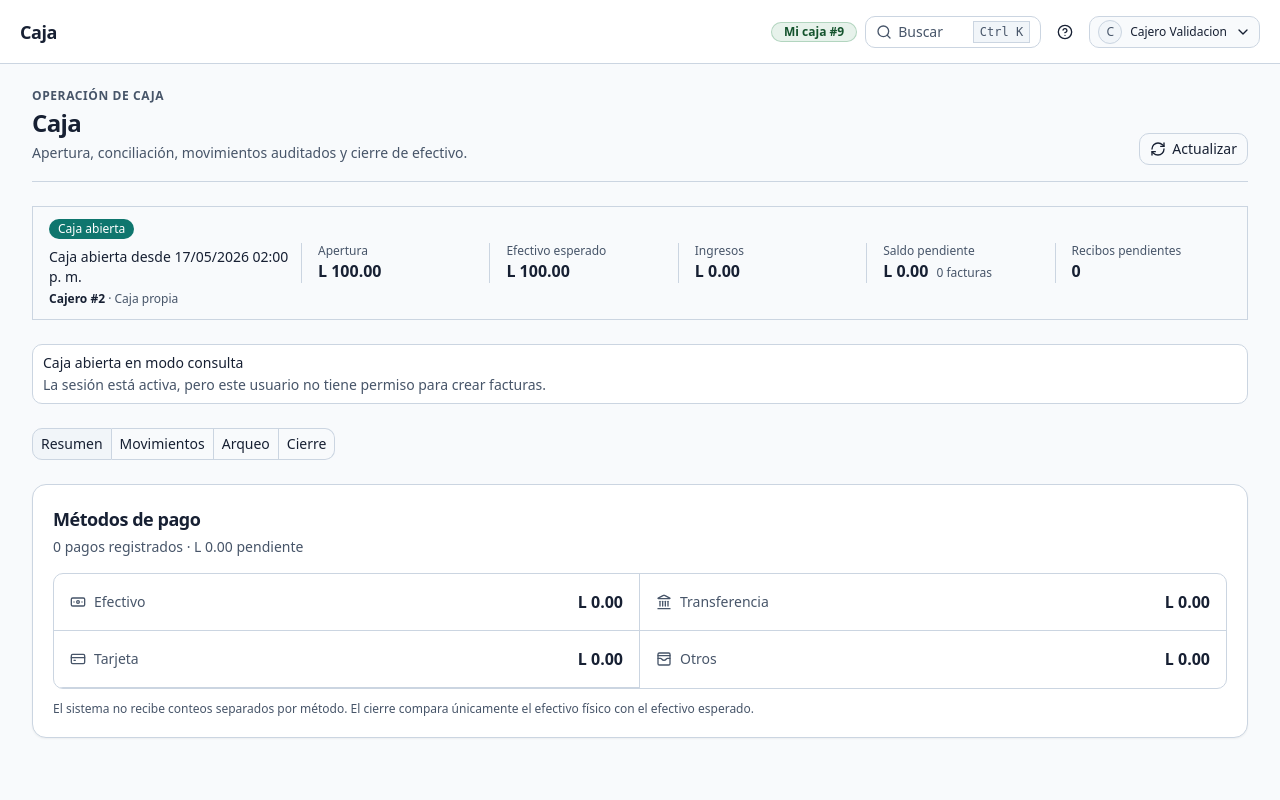
Scenario: CashBoxView › keeps close-session difference hidden until counted amount is entered
Click the radio button labelled "Cierre".
click(307, 444)  # box [279, 428, 335, 460]
(page scrolled)
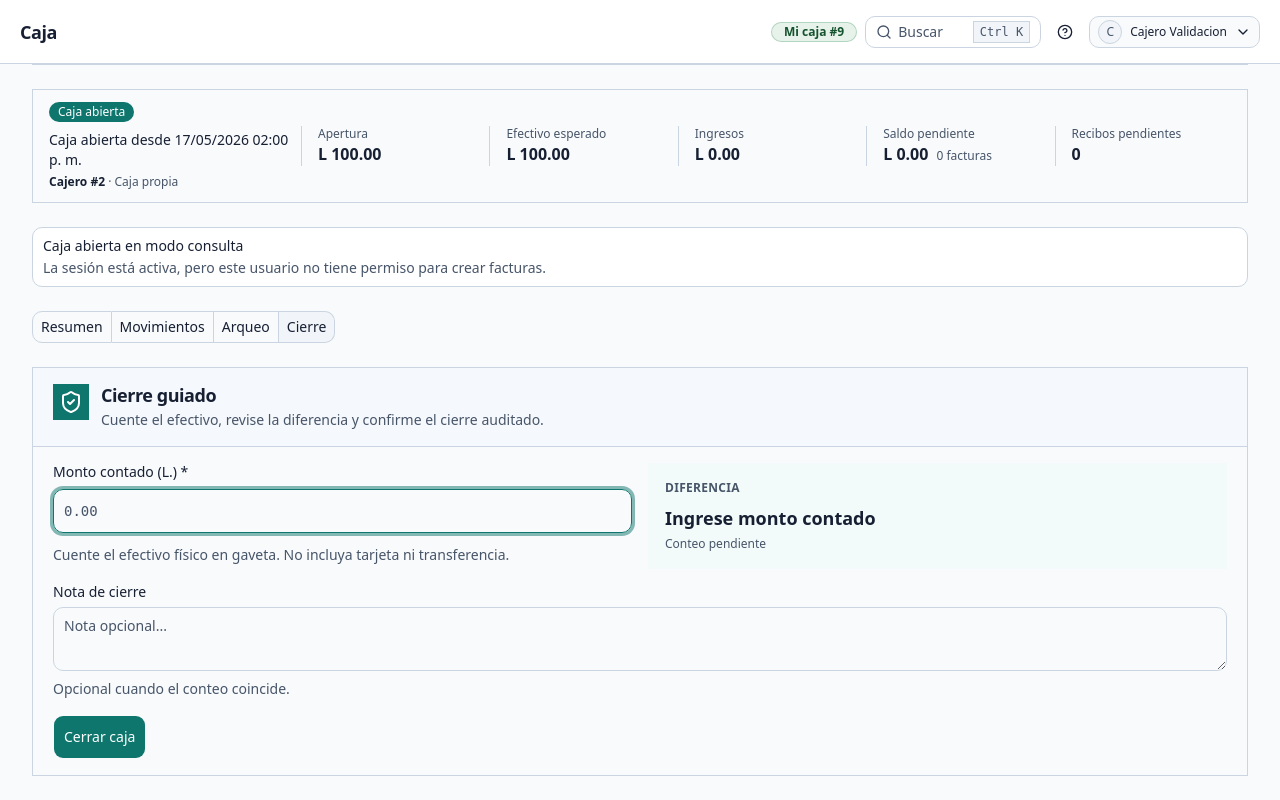
Expected: the number of fields labelled "Monto contado (L.) *" is 1, [53, 489, 632, 533]
Click the button "Cerrar caja".
click(100, 737)  # box [53, 715, 146, 759]
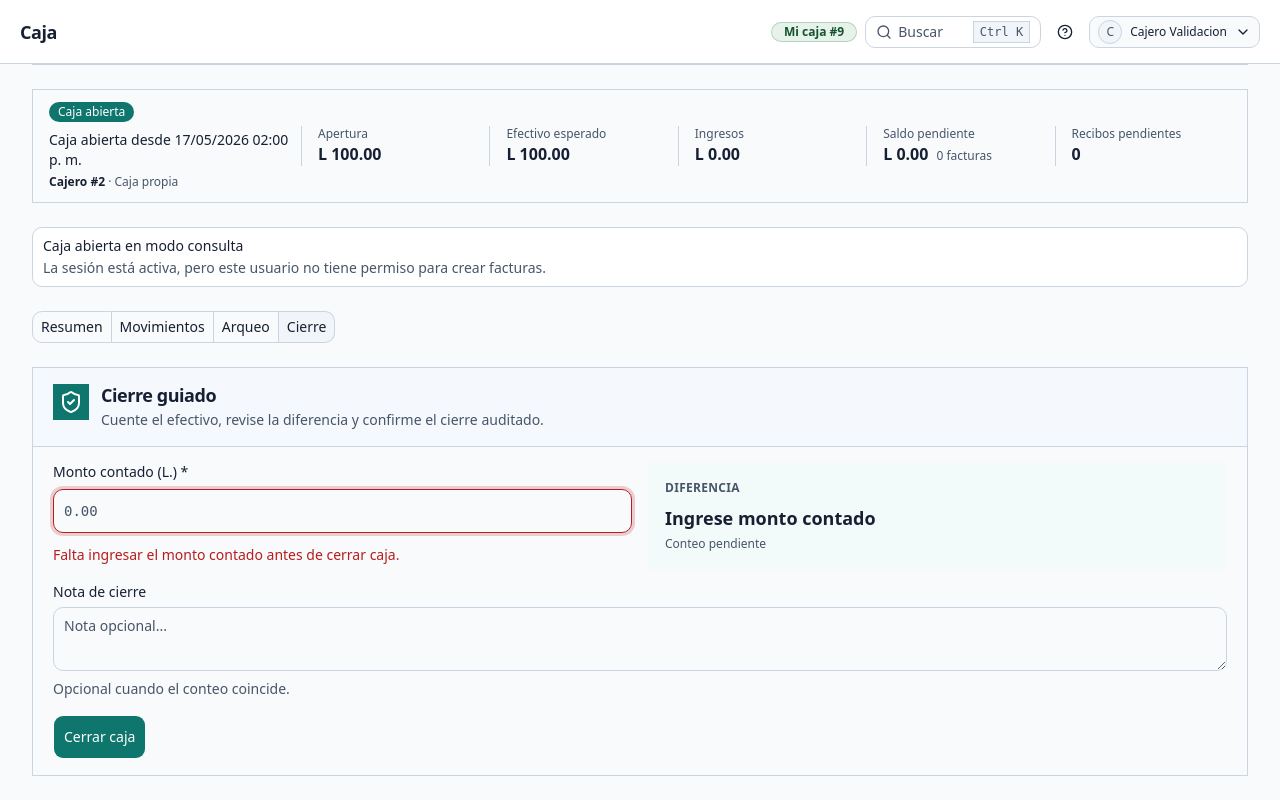
Expected: the text "Falta ingresar el monto contado antes de cerrar caja." is shown, [53, 545, 400, 564]
